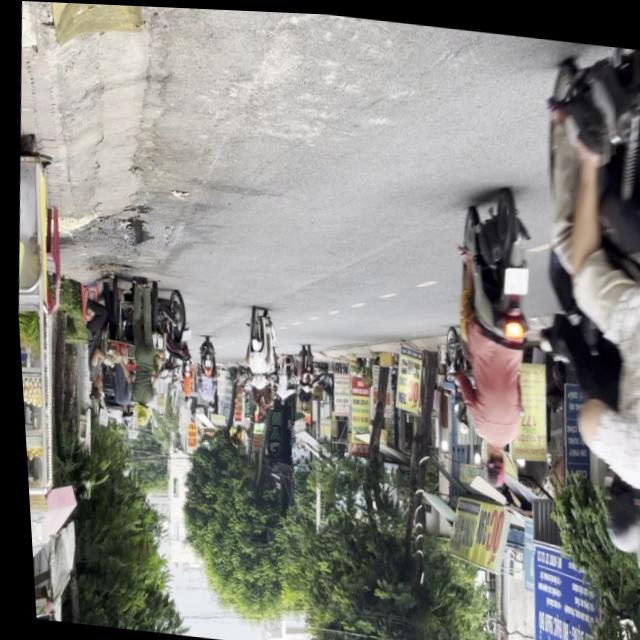helmet: (595, 468, 640, 552), (622, 488, 640, 581)
licenseplate: (503, 41, 640, 576), (433, 182, 546, 491)
motorcyclist: (475, 441, 504, 486)
nohelmet: (499, 261, 527, 291)
